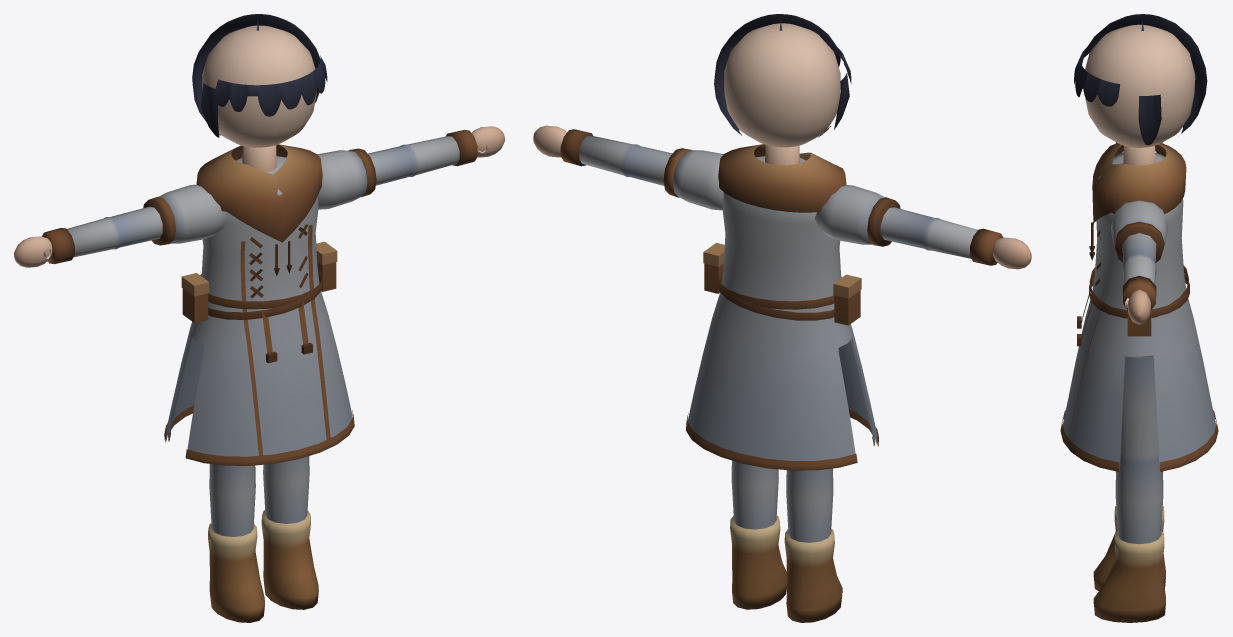
File: rota.glb
3 renders of one model, left to right at view 1: azimuth 30°, elevation 25°; view 2: azimuth 150°, elevation 25°; view 3: azimuth 270°, elevation 25°, orthographic.
Visible parts, largest first — view 1: Rota_Cloth, Rota_Leather, Rota_Body, Rota_Hair; view 2: Rota_Cloth, Rota_Leather, Rota_Body, Rota_Hair; view 3: Rota_Cloth, Rota_Leather, Rota_Body, Rota_Hair.
Boxes of the visible parts, x1=… form: Rota_Cloth: x1=67, y1=136, x2=459, y2=536; Rota_Leather: x1=42, y1=130, x2=477, y2=622; Rota_Body: x1=14, y1=25, x2=504, y2=267; Rota_Hair: x1=192, y1=14, x2=327, y2=137; Rota_Cloth: x1=579, y1=135, x2=977, y2=542; Rota_Leather: x1=560, y1=129, x2=1003, y2=622; Rota_Body: x1=533, y1=23, x2=1031, y2=269; Rota_Hair: x1=714, y1=14, x2=851, y2=137; Rota_Cloth: x1=1063, y1=142, x2=1215, y2=544; Rota_Leather: x1=1060, y1=143, x2=1218, y2=622; Rota_Body: x1=1085, y1=24, x2=1195, y2=324; Rota_Hair: x1=1074, y1=14, x2=1207, y2=145.
Bounding box in the file's own units: 1.42 × 1.6 × 0.396.
